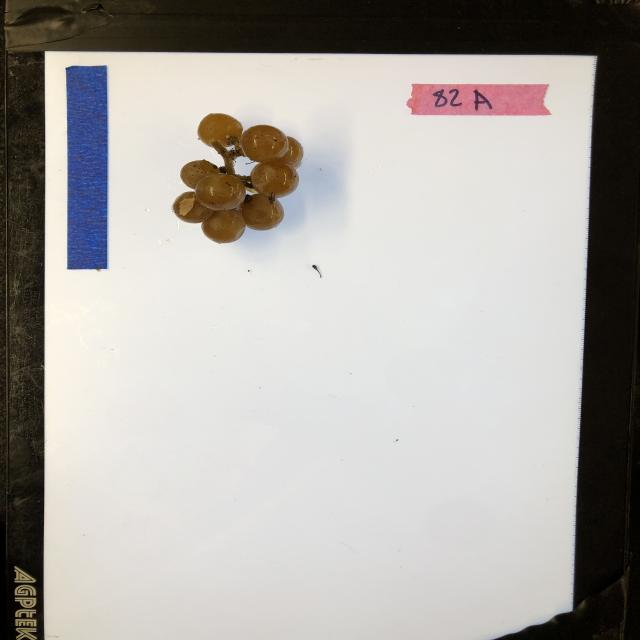grape_cluster: (170, 112, 305, 244)
index: (409, 83, 554, 116)
measure_label: (65, 64, 110, 271)
